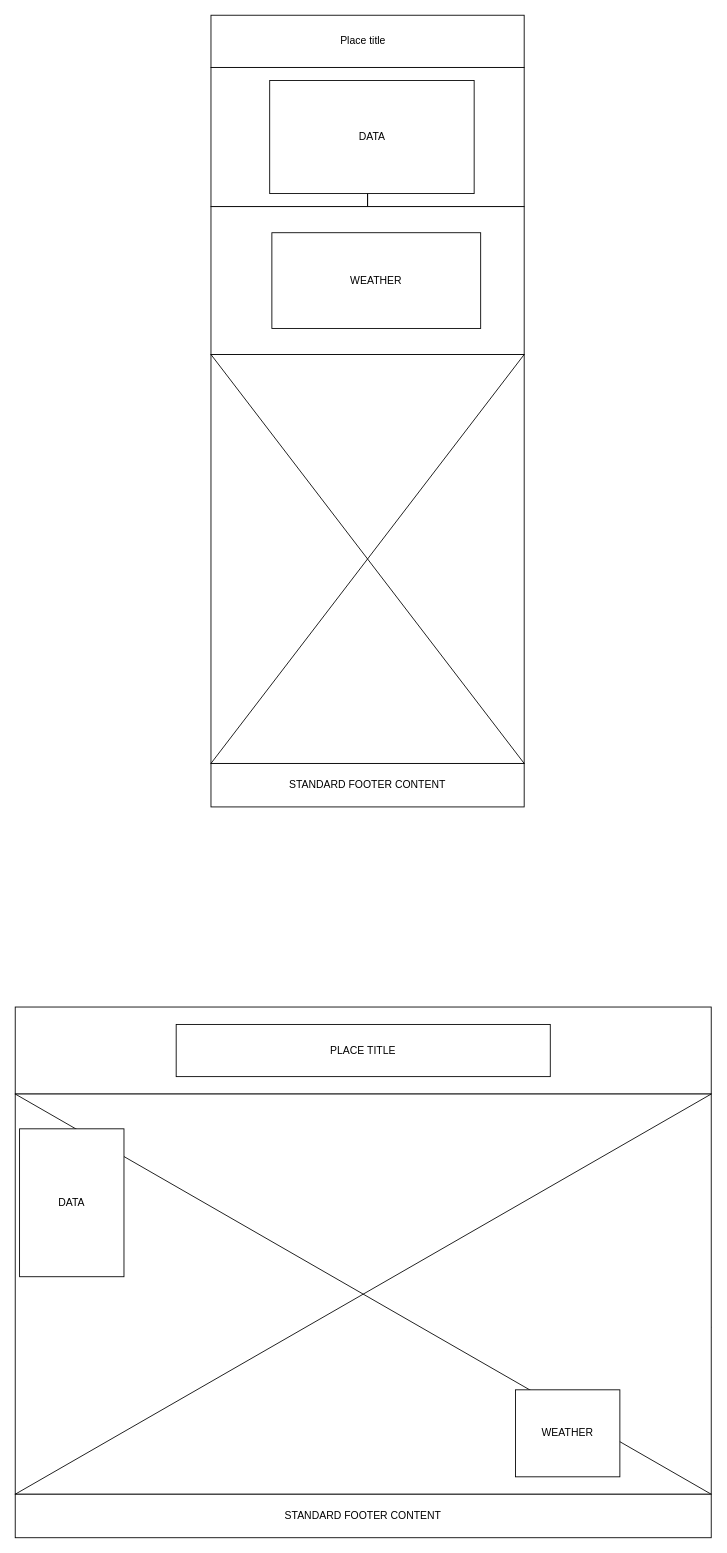
The diagram is 727 pixels wide and 1553 high, and some of its shapes have lost their labels. Each missing label, with the box of its shape:
LARGER IMAGE: (14, 1093, 711, 1494)
SMALL IMAGE: (210, 354, 524, 763)
